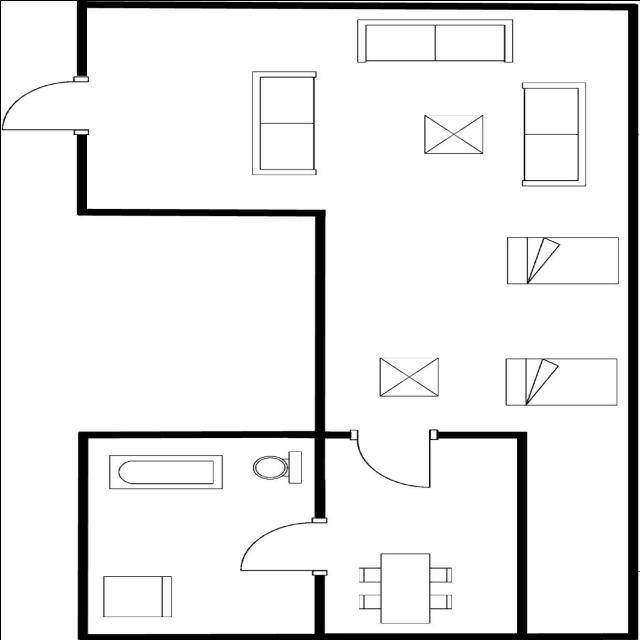bed: (497, 354, 622, 409), (500, 232, 621, 288)
coffee_table: (416, 110, 489, 156), (376, 354, 444, 399)
dining_table: (354, 550, 458, 628)
large_sink: (250, 446, 305, 484)
large_sofa: (350, 16, 520, 66), (514, 80, 592, 188), (246, 69, 320, 179)
small_sofa: (98, 572, 178, 622)
tub: (104, 449, 228, 492)
